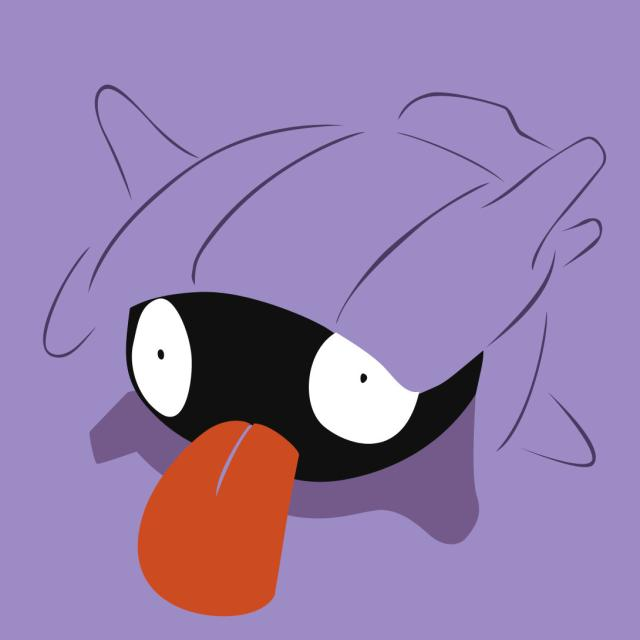Shellder: (29, 61, 608, 606)
